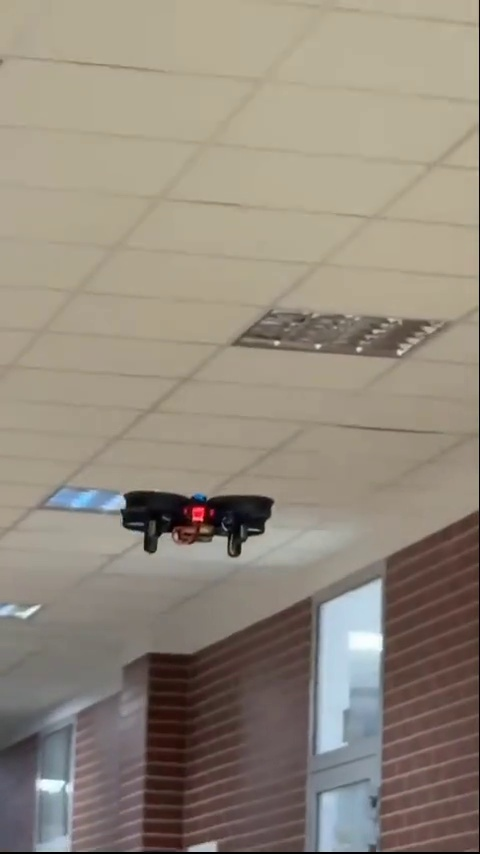drone: (117, 487, 273, 560)
